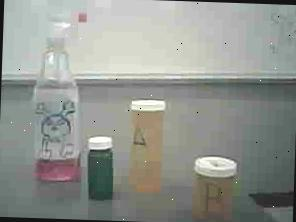Bottle A: (124, 97, 173, 196)
Bottle B: (188, 150, 240, 222)
Bottle C: (86, 133, 118, 204)
hazard: (29, 7, 91, 189)
